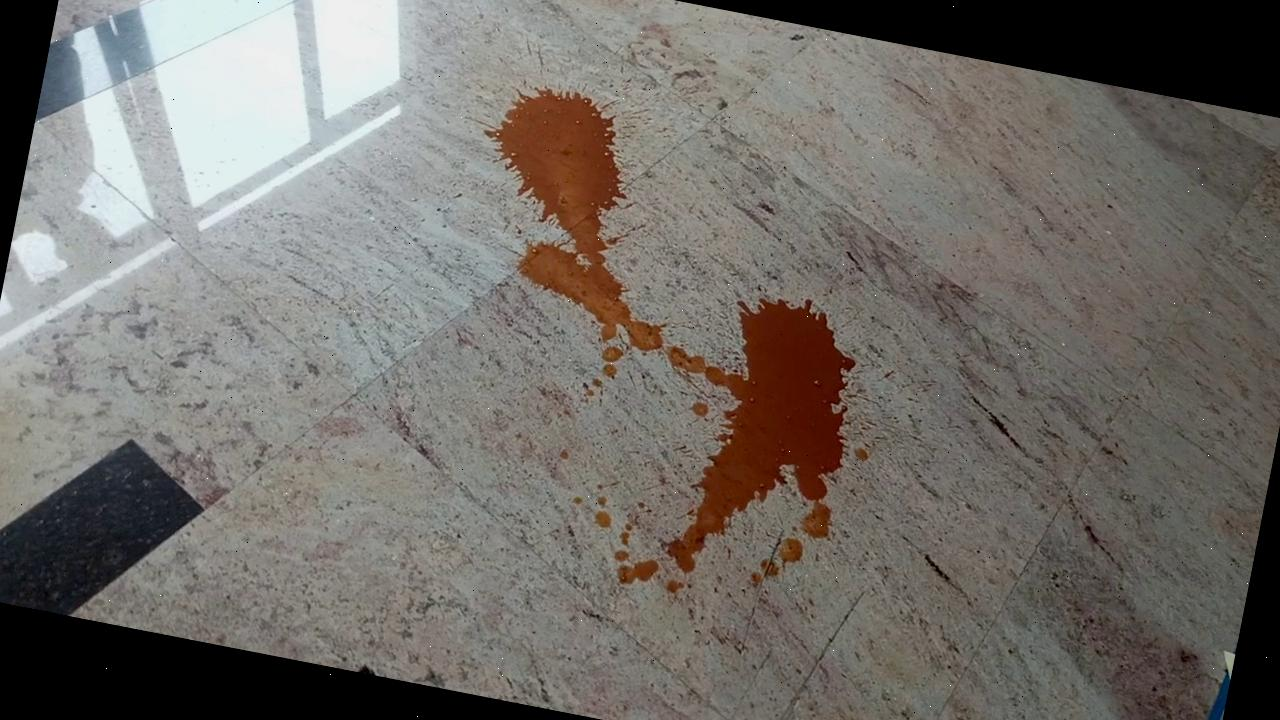dirty_floor: (402, 71, 911, 623)
